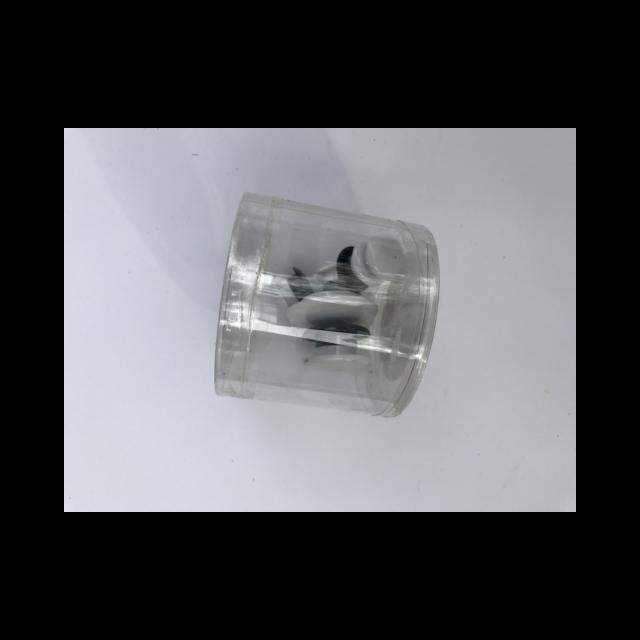plastic: (214, 191, 440, 417)
